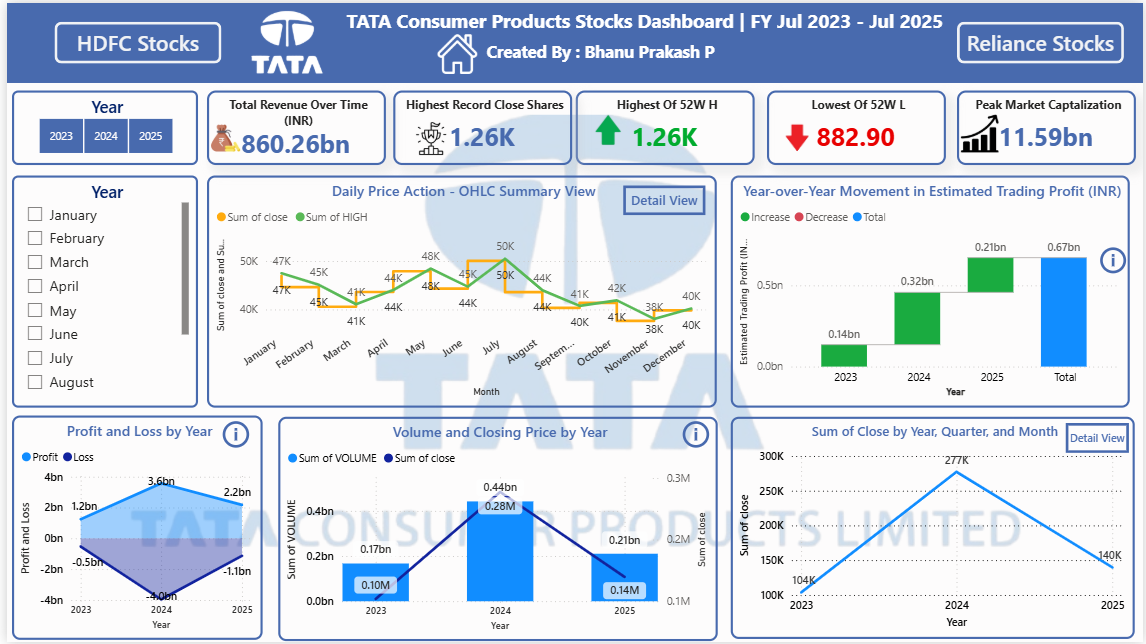

The page's visual inventory and layout, read from the dashboard file:
{"tool":"powerbi","page":{"name":"TATA","canvas":[1280,720],"ordinal":16},"visuals":[{"type":"shape","box":[0,0,1280.2,90.1],"z":0},{"type":"image","box":[255.6,0,122.2,90.1],"z":1000},{"type":"textbox","box":[377.8,0,718.5,49.4],"z":2000},{"type":"textbox","box":[535.8,37,287.7,40.7],"z":3000},{"type":"image","box":[0,121,1280.2,555.6],"z":4000},{"type":"lineChart","title":" Sum of Close by Year, Quarter, and Month","fields":{"Category":["TATA-2023_2025.Date .Variation.Date Hierarchy.Year","TATA-2023_2025.Date .Variation.Date Hierarchy.Quarter","TATA-2023_2025.Date .Variation.Date Hierarchy.Month","TATA-2023_2025.Date .Variation.Date Hierarchy.Day"],"Y":["Sum(TATA-2023_2025.close )"]},"box":[814.8,466.7,455.6,250.6],"z":5000},{"type":"lineStackedColumnComboChart","title":"Volume and Closing Price by Year","fields":{"Category":["TATA-2023_2025.Date .Variation.Date Hierarchy.Year"],"Y":["Sum(TATA-2023_2025.VOLUME )"],"Y2":["Sum(TATA-2023_2025.close )"]},"box":[304.9,466.7,495.1,253.1],"z":6000},{"type":"waterfallChart","title":"Year-over-Year Movement in Estimated Trading Profit (INR)","fields":{"Y":["Sum(TATA-2023_2025.Estimated Trading Profit)"],"Category":["TATA-2023_2025.Year"]},"box":[814.8,195.1,449.4,261.7],"z":7000},{"type":"areaChart","fields":{"Category":["TATA-2023_2025.Date .Variation.Date Hierarchy.Year"],"Y":["Sum(TATA-2023_2025.Profit Per Day)","Sum(TATA-2023_2025.Loss Per Day)"]},"box":[6.2,464.2,282.7,253.1],"z":8000},{"type":"card","title":"Total Revenue Over Time (INR)","fields":{"Values":["Sum(TATA-2023_2025.VALUE )"]},"box":[225.9,98.8,201.2,84],"z":9000},{"type":"card","title":"Highest Of 52W H","fields":{"Values":["TATA-2023_2025.Highest_52W_High"]},"box":[640.7,98.8,201.2,84],"z":10000},{"type":"card","title":"Lowest Of 52W L","fields":{"Values":["TATA-2023_2025.Lowest_52W_Low"]},"box":[856.8,98.8,201.2,84],"z":11000},{"type":"card","title":"Highest Record Close Shares","fields":{"Values":["Max(TATA-2023_2025.close )"]},"box":[434.6,98.8,201.2,84],"z":12000},{"type":"card","title":"Peak Market Captalization","fields":{"Values":["Max(TATA-2023_2025.VALUE )"]},"box":[1070.4,98.8,201.2,84],"z":13000},{"type":"slicer","title":"Year","fields":{"Values":["TATA-2023_2025.Year"]},"box":[6.2,98.8,209.9,84],"z":14000},{"type":"slicer","title":"Year","fields":{"Values":["TATA-2023_2025.Month Name"]},"box":[6.2,195.1,209.9,261.7],"z":15000},{"type":"lineChart","title":"Daily Price Action - OHLC Summary View","fields":{"Category":["TATA-2023_2025.Date .Variation.Date Hierarchy.Month","TATA-2023_2025.Date .Variation.Date Hierarchy.Day"],"Y":["Sum(TATA-2023_2025.close )","Sum(TATA-2023_2025.HIGH )"]},"box":[225.9,195.1,574.1,261.7],"z":16000},{"type":"actionButton","box":[695.1,204.9,92.6,33.3],"z":17000},{"type":"actionButton","box":[237.7,466.9,39.8,39.8],"z":18000},{"type":"actionButton","box":[756.4,466.9,43.4,39.8],"z":19000},{"type":"actionButton","box":[1227.2,270.6,44.3,39.1],"z":20000},{"type":"actionButton","box":[1193.2,472.9,71.2,33.8],"z":21000},{"type":"actionButton","box":[53.1,20.5,188.2,47.1],"z":22000},{"type":"actionButton","box":[1070.1,20.5,188.2,47.1],"z":23000},{"type":"image","box":[215.5,131,62,42.3],"z":24000},{"type":"image","box":[1067.6,121.1,56.3,52.1],"z":25000},{"type":"image","box":[649.3,98.6,91.5,88.7],"z":26000},{"type":"image","box":[832.4,107,84.5,90.1],"z":27000},{"type":"image","box":[480.3,29.6,54.9,56.3],"z":28000},{"type":"image","box":[447.9,126.8,60.6,52.1],"z":29000}]}

Visuals, with their boxes in screenshot pixels (x1, y1, x2, y2), scaled from the page's 1280x720 canvas onto the 1146x644 screenshot:
shape: bbox=(0, 0, 1145, 81)
image: bbox=(229, 0, 338, 81)
textbox: bbox=(338, 0, 982, 44)
textbox: bbox=(480, 33, 737, 69)
image: bbox=(0, 108, 1145, 605)
" Sum of Close by Year, Quarter, and Month" lineChart: bbox=(730, 417, 1137, 642)
"Volume and Closing Price by Year" lineStackedColumnComboChart: bbox=(273, 417, 716, 643)
"Year-over-Year Movement in Estimated Trading Profit (INR)" waterfallChart: bbox=(730, 175, 1132, 409)
areaChart - TATA-2023_2025.Date .Variation.Date Hierarchy.Year x Sum(TATA-2023_2025.Profit Per Day): bbox=(6, 415, 259, 642)
"Total Revenue Over Time (INR)" card: bbox=(202, 88, 382, 164)
"Highest Of 52W H" card: bbox=(574, 88, 754, 164)
"Lowest Of 52W L" card: bbox=(767, 88, 947, 164)
"Highest Record Close Shares" card: bbox=(389, 88, 569, 164)
"Peak Market Captalization" card: bbox=(958, 88, 1138, 164)
"Year" slicer: bbox=(6, 88, 193, 164)
"Year" slicer: bbox=(6, 175, 193, 409)
"Daily Price Action - OHLC Summary View" lineChart: bbox=(202, 175, 716, 409)
actionButton: bbox=(622, 183, 705, 213)
actionButton: bbox=(213, 418, 248, 453)
actionButton: bbox=(677, 418, 716, 453)
actionButton: bbox=(1099, 242, 1138, 277)
actionButton: bbox=(1068, 423, 1132, 453)
actionButton: bbox=(48, 18, 216, 60)
actionButton: bbox=(958, 18, 1127, 60)
image: bbox=(193, 117, 248, 155)
image: bbox=(956, 108, 1006, 155)
image: bbox=(581, 88, 663, 168)
image: bbox=(745, 96, 821, 176)
image: bbox=(430, 26, 479, 77)
image: bbox=(401, 113, 455, 160)
